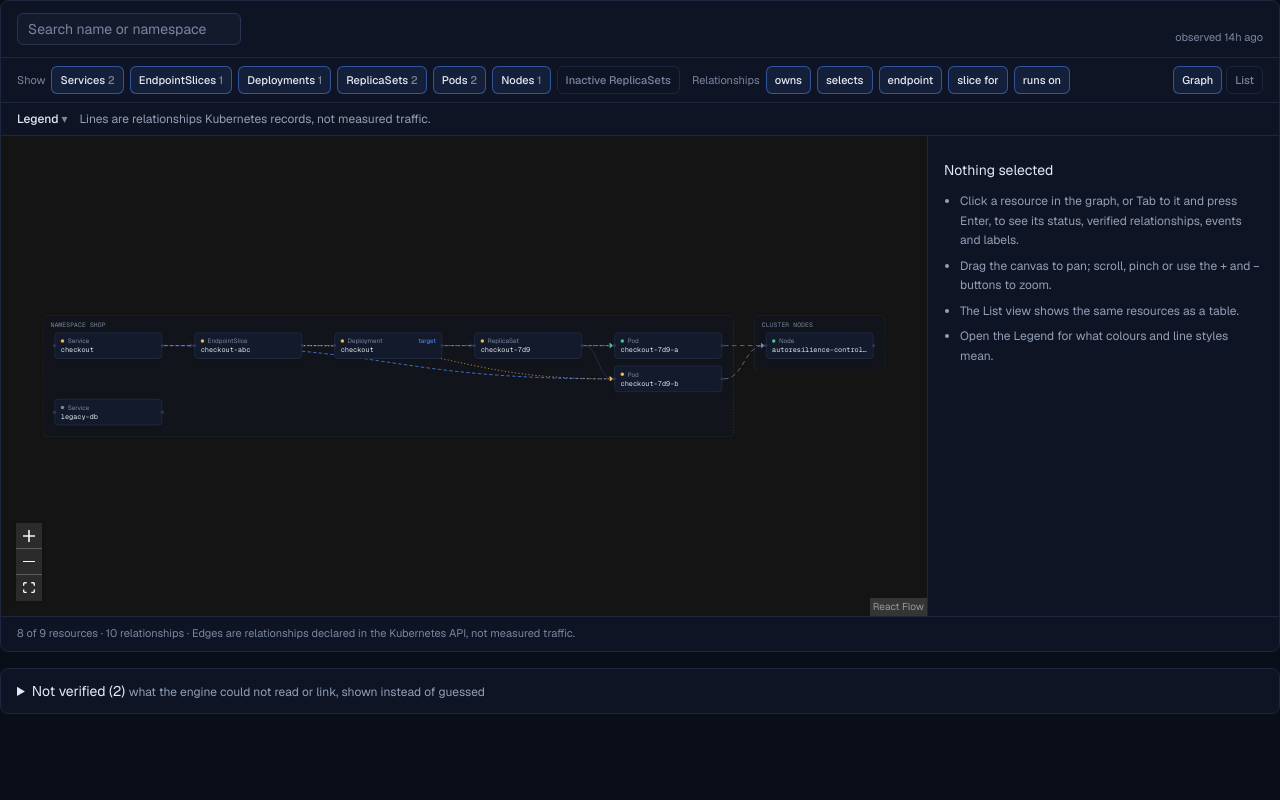
Test: TopologyView › explains each unverified item's type
This screenshot has width=1280, height=800.
Click the heading "Not verified (2)".
click(258, 691)  # box left=32, top=682, right=485, bottom=700
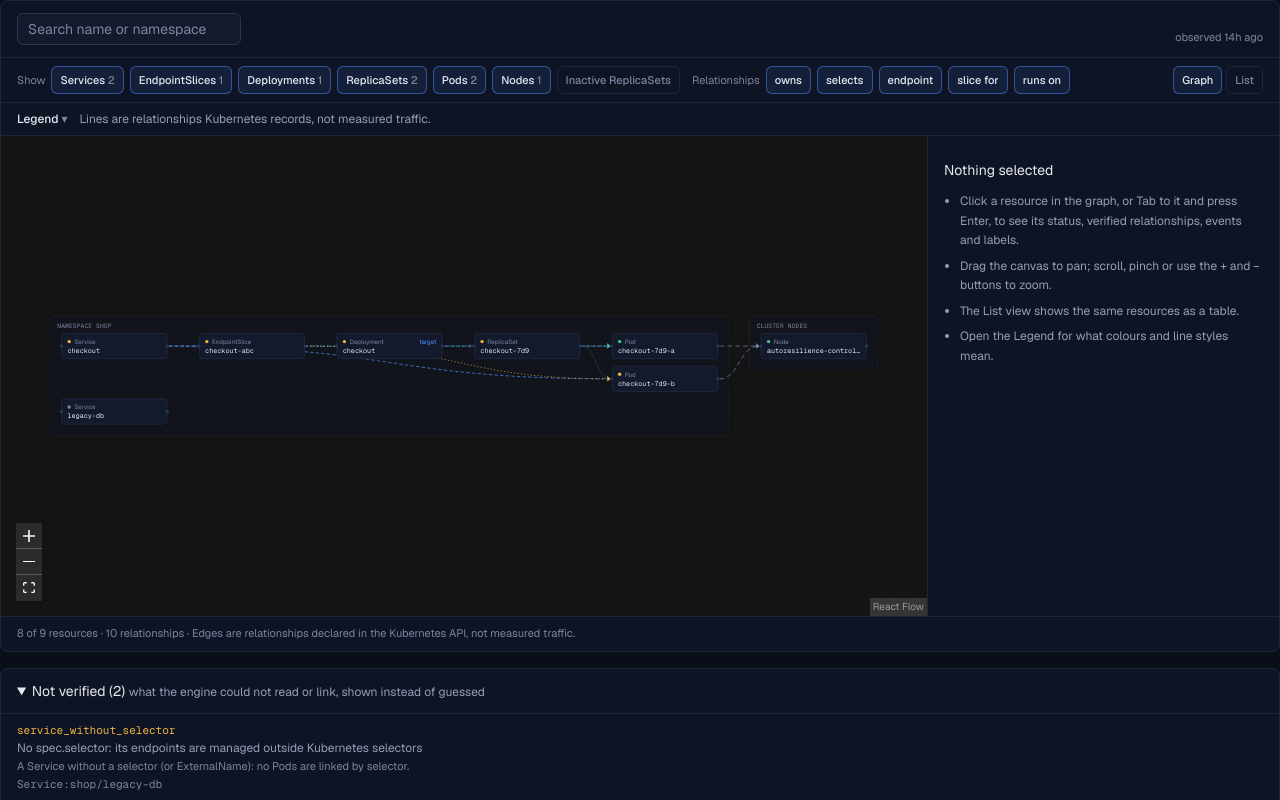
Expected: the text "A Service without a selector (or ExternalName)" is shown, left=17, top=759, right=409, bottom=773
